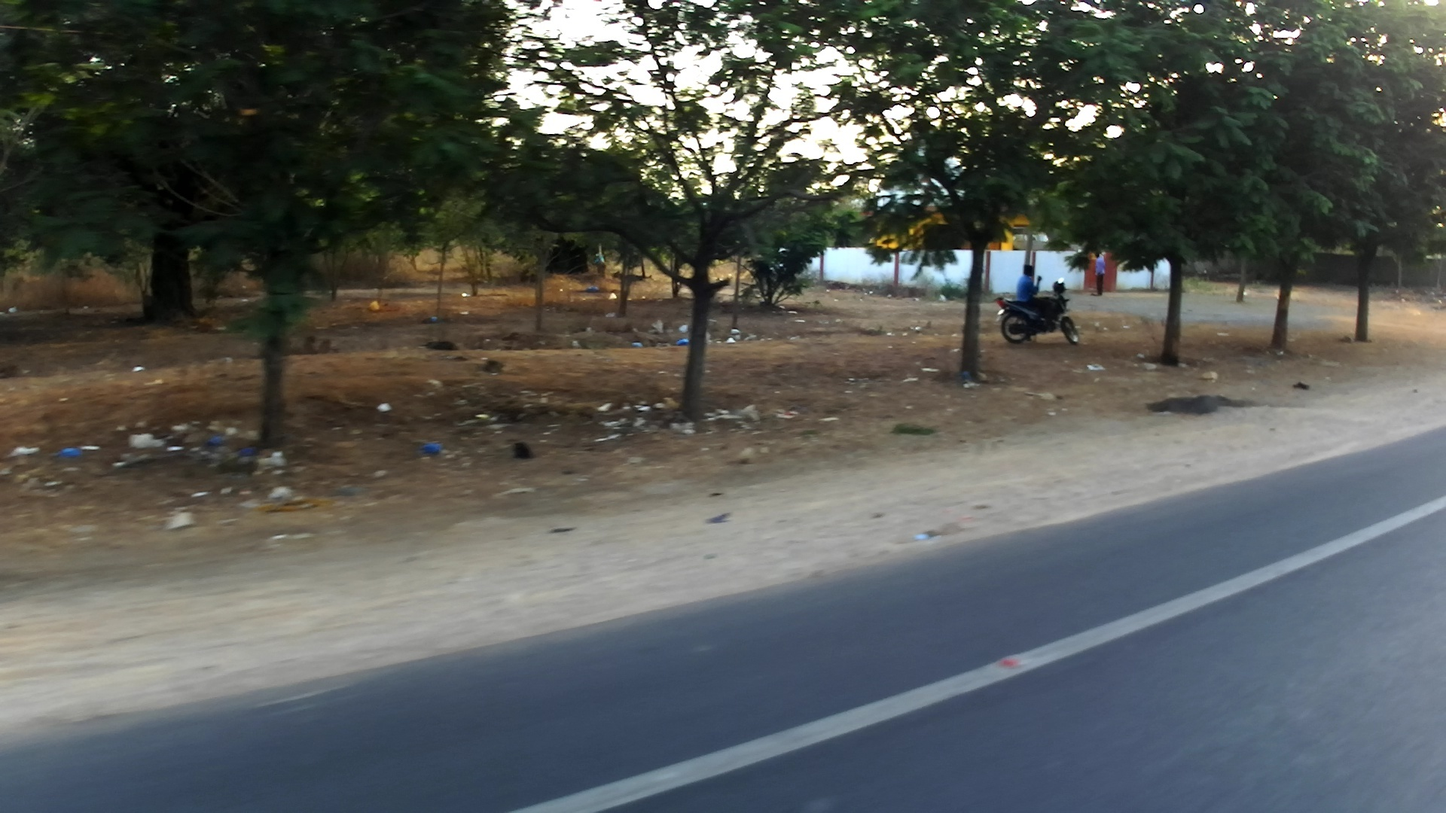motorcycle: (991, 280, 1081, 348)
person: (1092, 249, 1109, 297)
rider: (1017, 261, 1046, 308)
vehicle fallback: (865, 192, 1036, 257)
